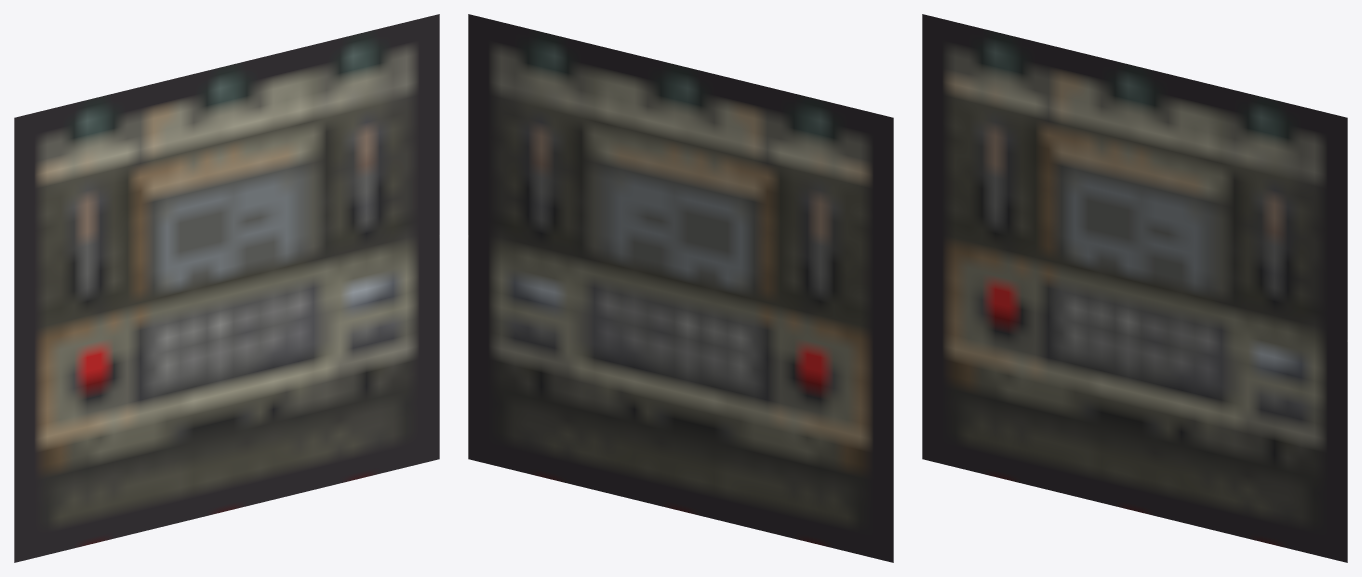
File: Guard_Alertness_Computer.glb
3 renders of one model, left to right at view 1: azimuth 30°, elevation 25°; view 2: azimuth 150°, elevation 25°; view 3: azimuth 330°, elevation 25°, orthographic.
Parts seen in each view (by area): view 1: pPlane1; view 2: pPlane1; view 3: pPlane1.
Boxes of the visible parts, <box> form: pPlane1: <box>14,14,439,562</box>; pPlane1: <box>468,14,893,562</box>; pPlane1: <box>922,14,1347,562</box>.
Size of the model in its own units: 1 by 1 by 0.
Materials: 1 (1 with a texture image).
